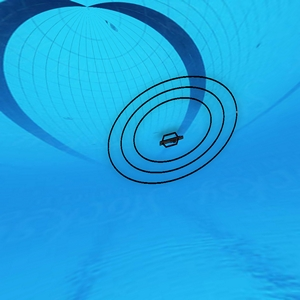circle: (100, 72, 243, 184)
submarine: (155, 129, 182, 150)
